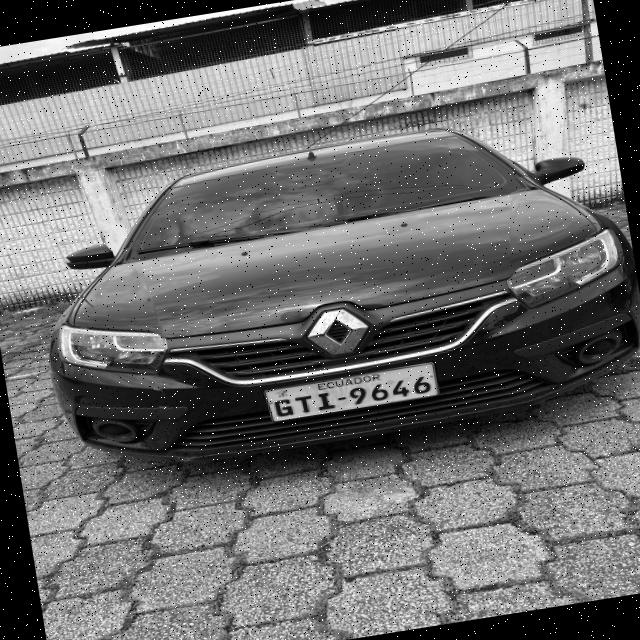Placa: (266, 363, 438, 421)
